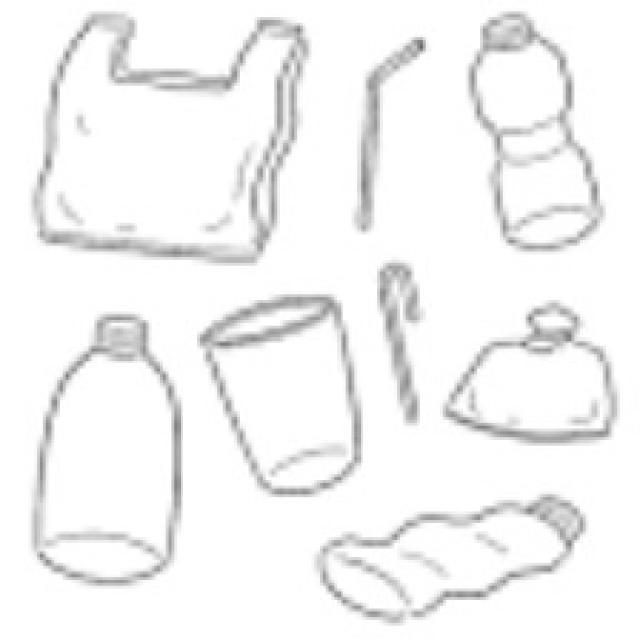plastic_bag: (34, 13, 307, 270)
